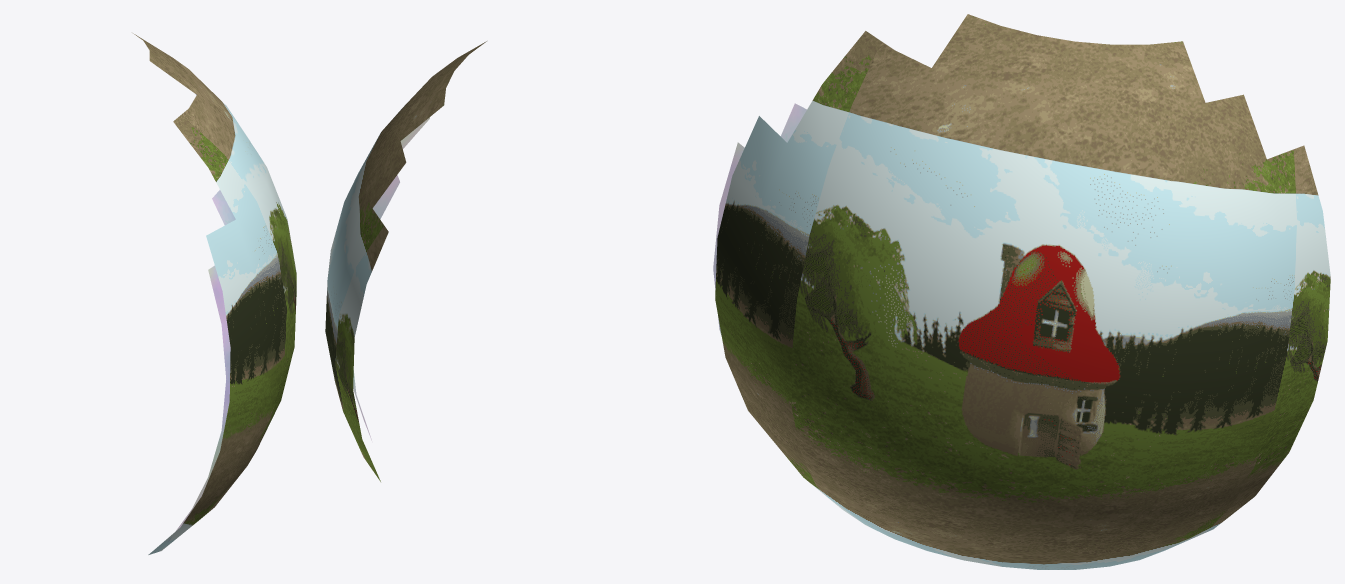
Rendered from bubble_village3.glb.
3 views of the same model, side by side, from view 1: azimuth 30°, elevation 25°; view 2: azimuth 150°, elevation 25°; view 3: azimuth 270°, elevation 25° (orthographic). The views are drawn at different scales.
Parts seen in each view (by area): view 1: envmap.png__, bubble.png__; view 2: envmap.png__, bubble.png__; view 3: envmap.png__, bubble.png__.
Part boxes in pixels (x1=…): envmap.png__: x1=133, y1=33, x2=296, y2=554; bubble.png__: x1=168, y1=94, x2=235, y2=541; envmap.png__: x1=325, y1=41, x2=486, y2=481; bubble.png__: x1=353, y1=117, x2=429, y2=439; envmap.png__: x1=715, y1=14, x2=1330, y2=569; bubble.png__: x1=713, y1=103, x2=806, y2=335.
Size of the model in its own units: 2.89 by 6.02 by 6.06.
2 materials, 2 textured.
